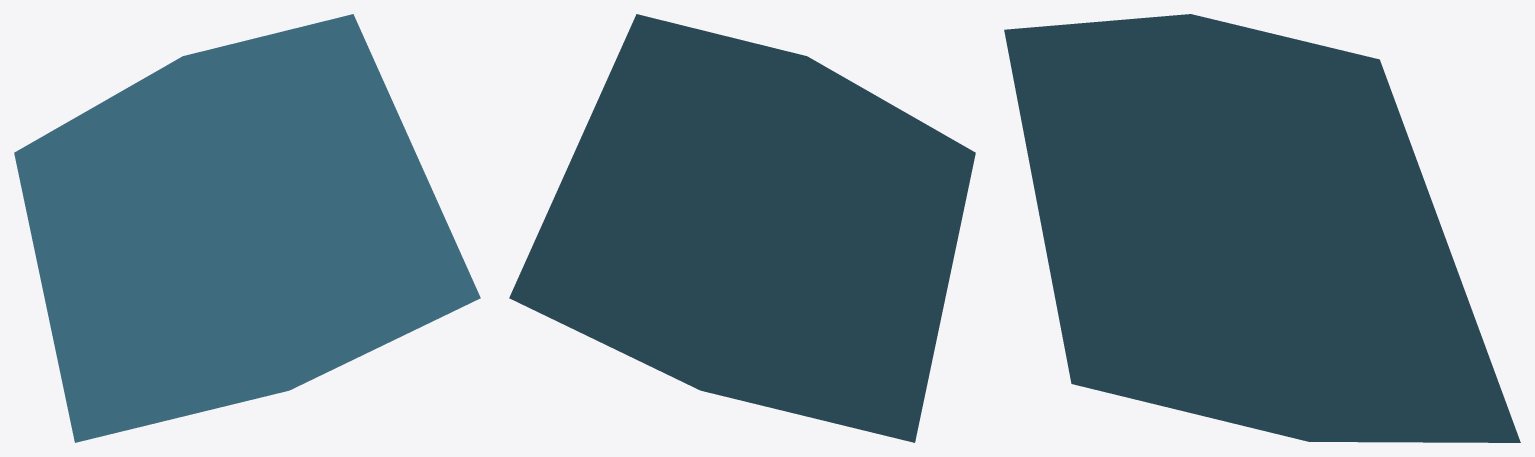
Rendered from NexusA_Cloth_29.fbx.
3 renders of one model, left to right at view 1: azimuth 30°, elevation 25°; view 2: azimuth 150°, elevation 25°; view 3: azimuth 330°, elevation 25°, orthographic. The views are drawn at different scales.
Visible parts, largest first — view 1: pasted__polySurface104; view 2: pasted__polySurface104; view 3: pasted__polySurface104.
Part boxes in pixels (x1,y1,x2,y2): pasted__polySurface104: (14,14,480,442); pasted__polySurface104: (509,14,975,442); pasted__polySurface104: (1004,14,1520,442).
Size of the model in its own units: 53.36 by 39.43 by 2.28e-05.
